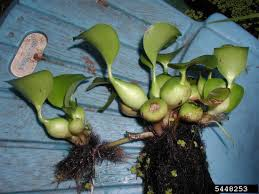water_hyacinth: (3, 14, 255, 154)
